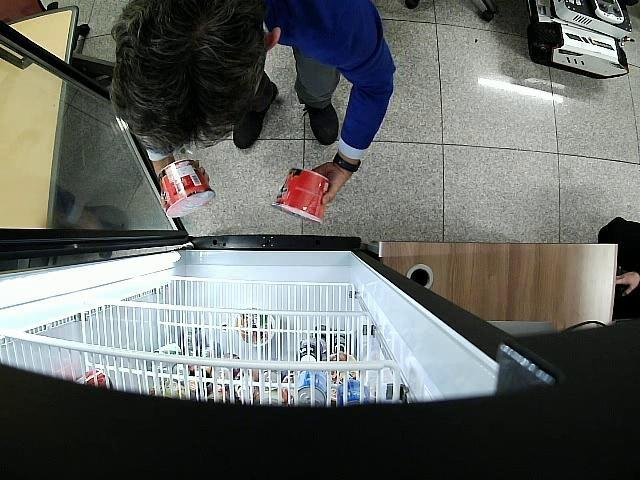01_ShinRamen_L: (272, 167, 330, 224), (159, 160, 215, 218)
